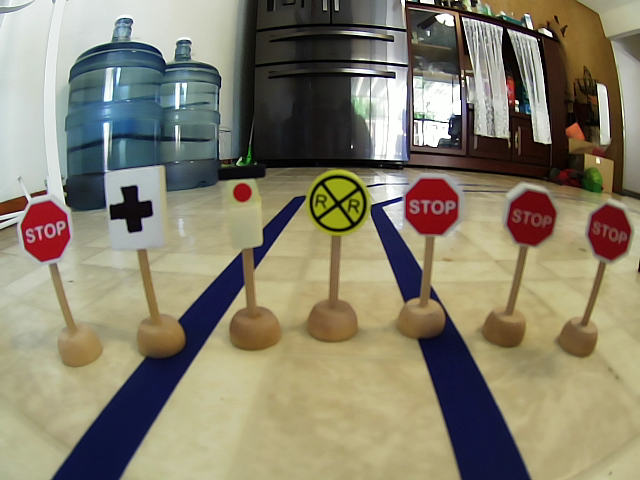plus: (102, 161, 172, 252)
rail: (301, 168, 372, 237)
red: (212, 162, 276, 255)
stop: (394, 170, 470, 246), (14, 190, 78, 266), (498, 182, 561, 251), (577, 195, 637, 266)
